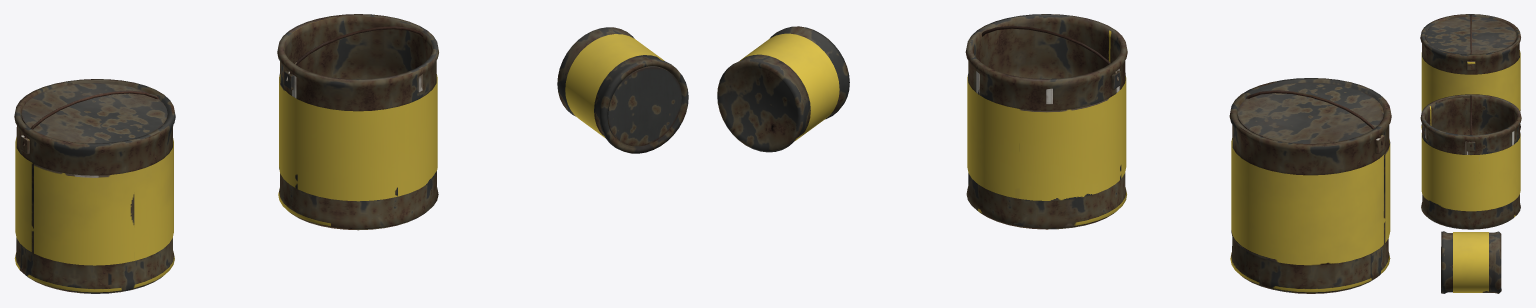
Rendered from PaintCans.fbx.
The picture shows the model from 3 angles, left to right: view 1: azimuth 30°, elevation 25°; view 2: azimuth 150°, elevation 25°; view 3: azimuth 270°, elevation 25°; orthographic projection. The views are drawn at different scales.
Parts seen in each view (by area): view 1: CanB, CanA, CanC; view 2: CanA, CanB, CanC; view 3: CanB, CanA, CanC.
Boxes of the visible parts, x1,y1,x2,y2 form: CanB: (277, 14, 438, 230); CanA: (14, 79, 175, 293); CanC: (557, 27, 688, 153); CanA: (1229, 78, 1391, 293); CanB: (965, 14, 1127, 229); CanC: (717, 26, 849, 152); CanB: (1420, 94, 1521, 229); CanA: (1420, 14, 1520, 130); CanC: (1441, 231, 1501, 293).
Size of the model in its own units: 0.8536 by 0.215 by 0.1865.
